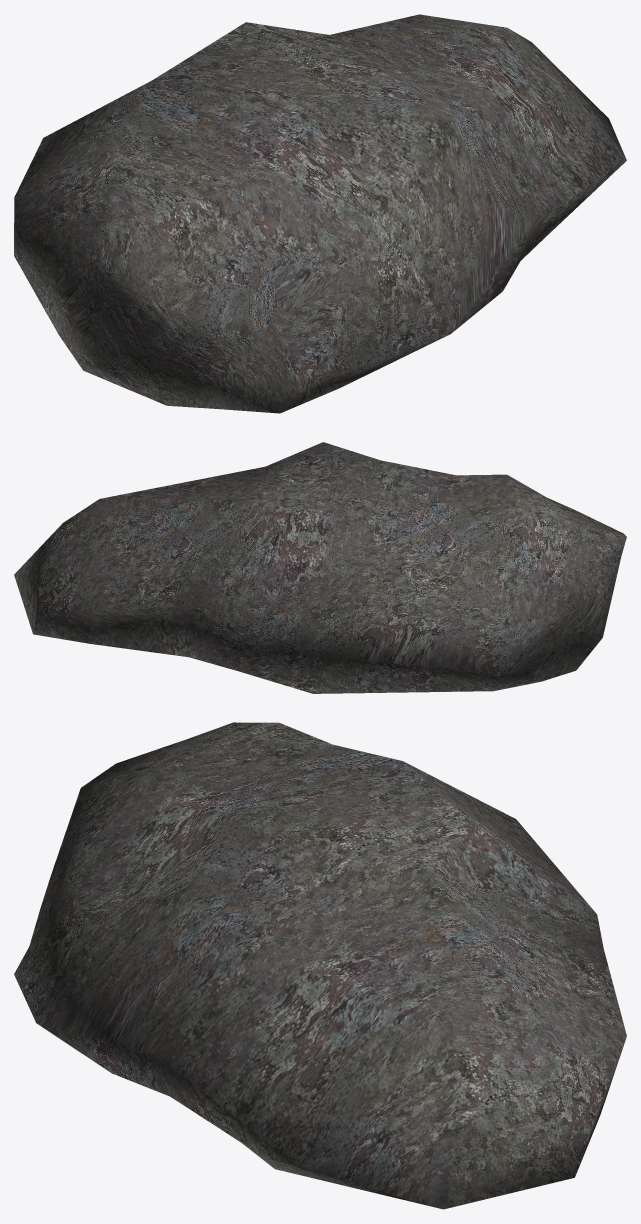
The model's file is rock_forestriverrock_lg_l2.fbx.
3 renders of one model, top to bottom at view 1: azimuth 30°, elevation 25°; view 2: azimuth 150°, elevation 25°; view 3: azimuth 270°, elevation 25°, orthographic. The views are drawn at different scales.
Visible parts, largest first — view 1: mesh_node; view 2: mesh_node; view 3: mesh_node.
Boxes of the visible parts, x1=… form: mesh_node: x1=14, y1=14, x2=626, y2=413; mesh_node: x1=14, y1=442, x2=626, y2=693; mesh_node: x1=14, y1=722, x2=626, y2=1209.
Size of the model in its own units: 3.5 by 1.18 by 2.61.
Materials: 1 (1 with a texture image).
